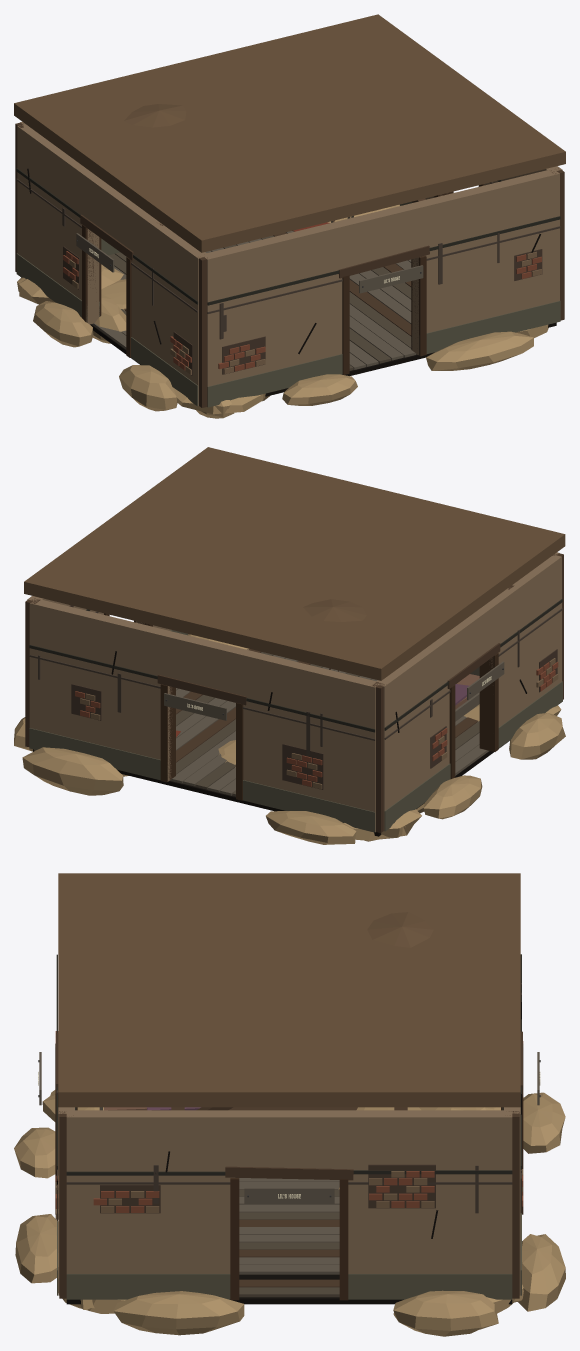
The model's file is TownBldg_lil.glb.
The picture shows the model from 3 angles, top to bottom: view 1: azimuth 30°, elevation 25°; view 2: azimuth 150°, elevation 25°; view 3: azimuth 270°, elevation 25°; orthographic projection. The views are drawn at different scales.
Parts seen in each view (by area): view 1: TownBldg_lil.001; view 2: TownBldg_lil.001; view 3: TownBldg_lil.001.
Part boxes in pixels (x1,y1,x2,y2): TownBldg_lil.001: [14, 14, 565, 418]; TownBldg_lil.001: [14, 447, 565, 844]; TownBldg_lil.001: [14, 873, 565, 1336].
Bounding box in the file's own units: 10.92 × 4.81 × 9.91.
